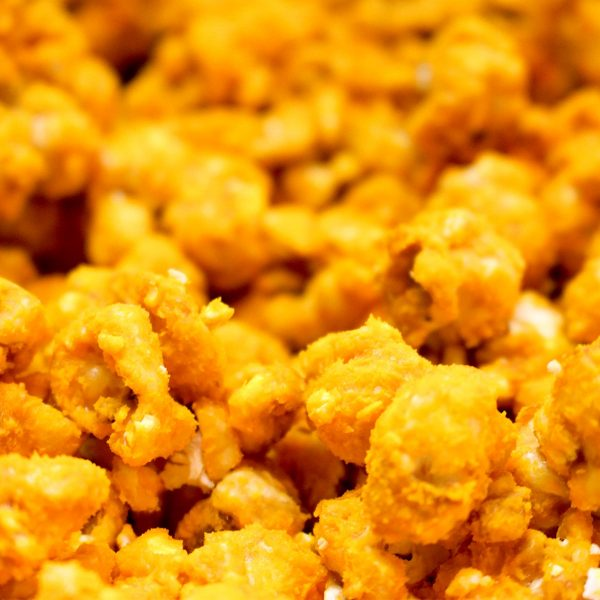cheese: (200, 154, 526, 494)
